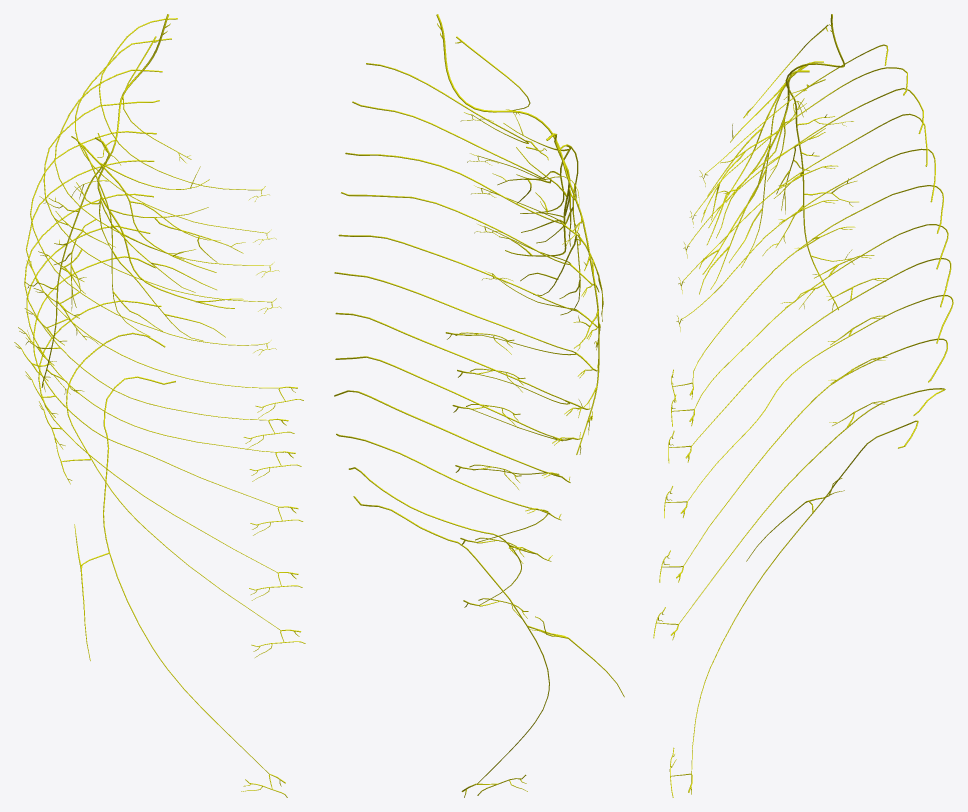
Rendered from Thorax nerves.fbx.
3 renders of one model, left to right at view 1: azimuth 30°, elevation 25°; view 2: azimuth 150°, elevation 25°; view 3: azimuth 270°, elevation 25°, orthographic. The views are drawn at different scales.
Visible parts, largest first — view 1: Lateral_pectoral_C05_C07_R, Long_thoracis_C05_C07_R, Medial_pectoral_C08_T01_R, T12_spinal_nerve_R, T09_spinal_nerve_R, T06_spinal_nerve_R, T07_spinal_nerve_R, T08_spinal_nerve_R, T05_spinal_nerve_R, T10_spinal_nerve_R, T11_spinal_nerve_R, T04_spinal_nerve_R (+2 smaller); view 2: Long_thoracis_C05_C07_R, Lateral_pectoral_C05_C07_R, Medial_pectoral_C08_T01_R, T12_spinal_nerve_R, T06_spinal_nerve_R, T07_spinal_nerve_R, T08_spinal_nerve_R, T04_spinal_nerve_R, T05_spinal_nerve_R, T09_spinal_nerve_R, T03_spinal_nerve_R, T10_spinal_nerve_R; view 3: Lateral_pectoral_C05_C07_R, Long_thoracis_C05_C07_R, Medial_pectoral_C08_T01_R, T12_spinal_nerve_R, T10_spinal_nerve_R, T11_spinal_nerve_R, T09_spinal_nerve_R, T06_spinal_nerve_R, T08_spinal_nerve_R, T05_spinal_nerve_R, T07_spinal_nerve_R.
Boxes of the visible parts, box(x1,y1,x2,y2) form: Lateral_pectoral_C05_C07_R: box(71, 136, 225, 340); Long_thoracis_C05_C07_R: box(24, 14, 170, 394); Medial_pectoral_C08_T01_R: box(74, 137, 245, 308); T12_spinal_nerve_R: box(103, 376, 269, 774); T09_spinal_nerve_R: box(33, 256, 278, 506); T06_spinal_nerve_R: box(26, 160, 279, 388); T07_spinal_nerve_R: box(24, 193, 268, 420); T08_spinal_nerve_R: box(26, 225, 276, 452); T05_spinal_nerve_R: box(30, 131, 266, 345); T10_spinal_nerve_R: box(38, 300, 277, 572); T11_spinal_nerve_R: box(66, 332, 280, 630); T04_spinal_nerve_R: box(43, 100, 271, 302); Long_thoracis_C05_C07_R: box(436, 14, 600, 454); Lateral_pectoral_C05_C07_R: box(503, 110, 580, 315); Medial_pectoral_C08_T01_R: box(492, 133, 576, 256); T12_spinal_nerve_R: box(353, 496, 549, 784); T06_spinal_nerve_R: box(334, 272, 576, 355); T07_spinal_nerve_R: box(335, 312, 569, 404); T08_spinal_nerve_R: box(335, 356, 562, 441); T04_spinal_nerve_R: box(341, 192, 570, 264); T05_spinal_nerve_R: box(338, 234, 577, 311); T09_spinal_nerve_R: box(334, 390, 559, 474); T03_spinal_nerve_R: box(345, 152, 562, 223); T10_spinal_nerve_R: box(336, 433, 548, 542); Lateral_pectoral_C05_C07_R: box(699, 61, 823, 294); Long_thoracis_C05_C07_R: box(762, 14, 858, 310); Medial_pectoral_C08_T01_R: box(699, 70, 809, 274); T12_spinal_nerve_R: box(691, 420, 918, 774); T10_spinal_nerve_R: box(683, 338, 947, 566); T11_spinal_nerve_R: box(678, 388, 945, 624); T09_spinal_nerve_R: box(688, 295, 953, 500); T06_spinal_nerve_R: box(692, 185, 943, 382); T08_spinal_nerve_R: box(691, 258, 951, 445); T05_spinal_nerve_R: box(681, 148, 935, 318); T07_spinal_nerve_R: box(694, 224, 948, 409).
Bounding box in the file's own units: 15.16 × 55.19 × 19.69.
